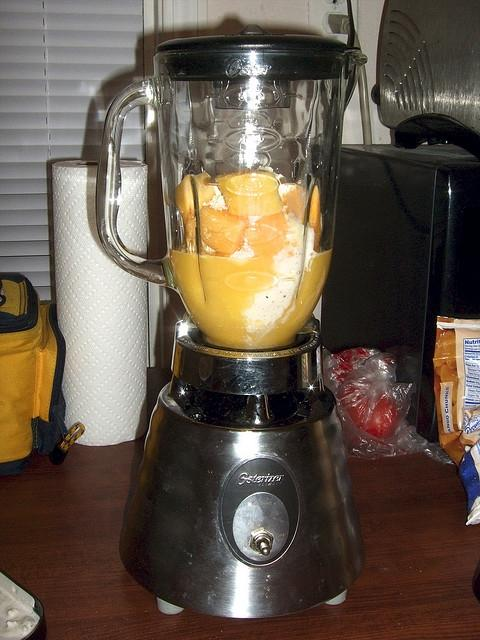tomato: (340, 382, 400, 439)
